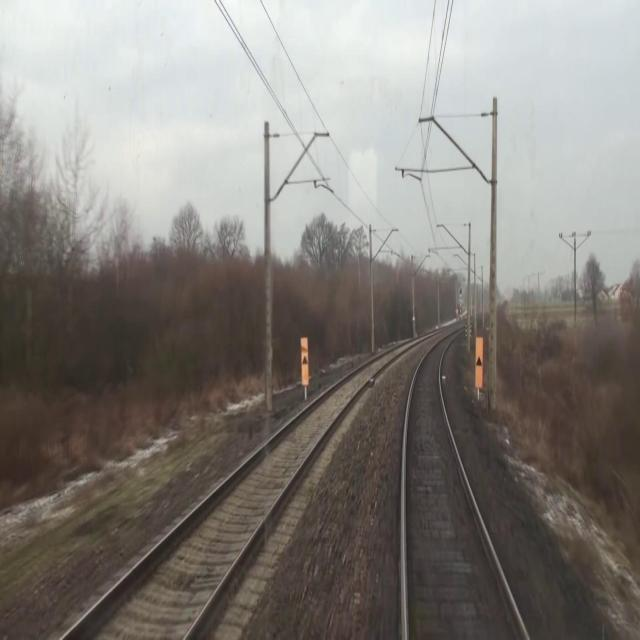rail-track: (66, 345, 406, 639), (406, 336, 523, 639)
